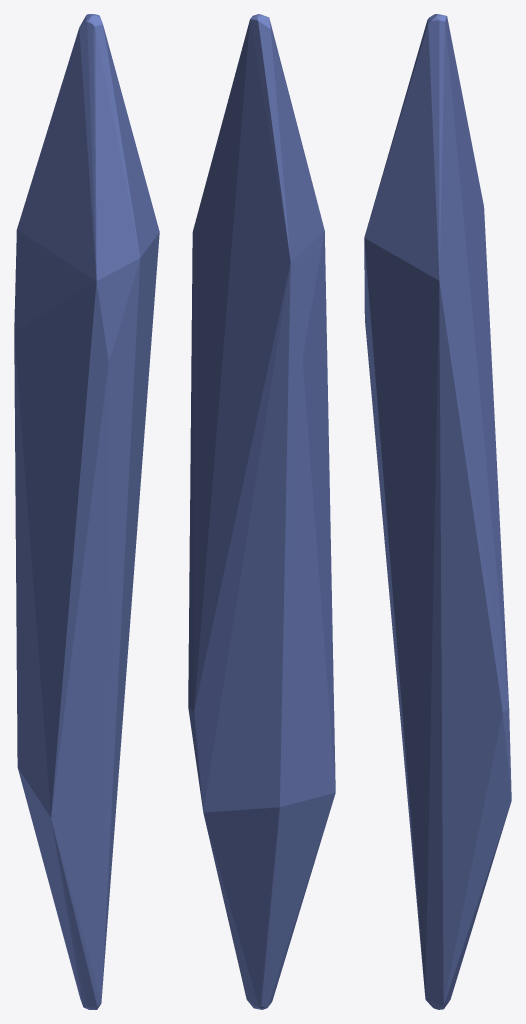
The model's file is kitchenware_rollingPin_a01.glb.
3 renders of one model, left to right at view 1: azimuth 30°, elevation 25°; view 2: azimuth 150°, elevation 25°; view 3: azimuth 270°, elevation 25°, orthographic.
Visible parts, largest first — view 1: geometry_0; view 2: geometry_0; view 3: geometry_0.
Boxes of the visible parts, bbox=[...] form: geometry_0: bbox=[14, 14, 159, 1009]; geometry_0: bbox=[188, 14, 335, 1009]; geometry_0: bbox=[364, 14, 511, 1009].
Size of the model in its own units: 0.0645 by 0.4799 by 0.0645.
